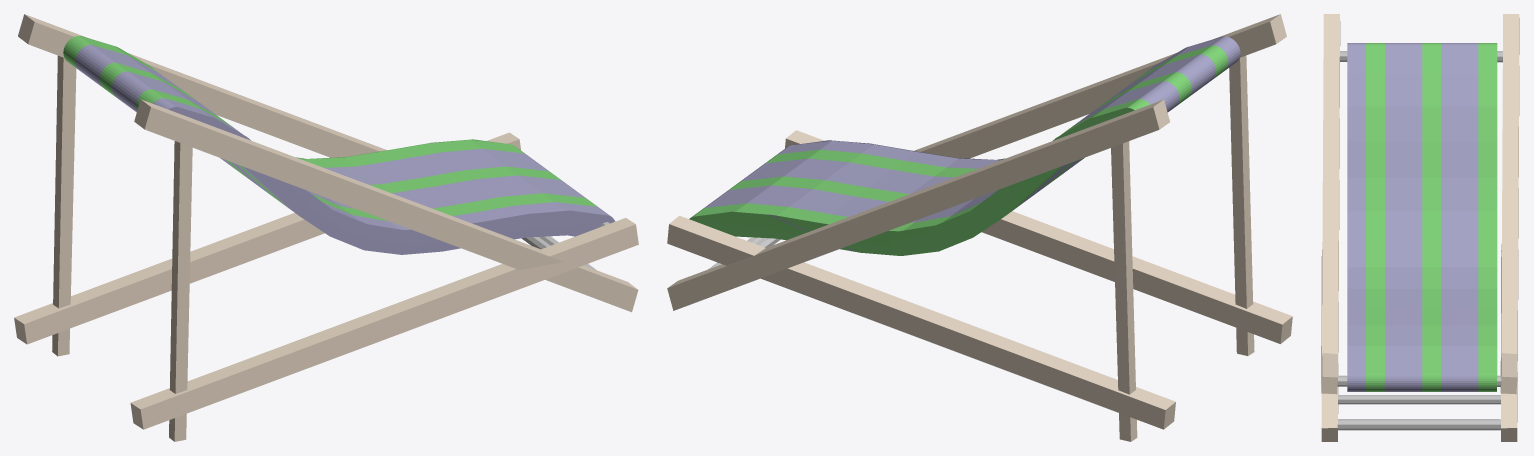
The model's file is Cadeira1.fbx.
The picture shows the model from 3 angles, left to right: view 1: azimuth 30°, elevation 25°; view 2: azimuth 150°, elevation 25°; view 3: azimuth 270°, elevation 25°; orthographic projection. The views are drawn at different scales.
Parts seen in each view (by area): view 1: Cylinder.003; view 2: Cylinder.003; view 3: Cylinder.003.
Boxes of the visible parts, left/top/right/bottom form: Cylinder.003: left=14, top=14, right=638, bottom=441; Cylinder.003: left=667, top=14, right=1292, bottom=441; Cylinder.003: left=1321, top=14, right=1519, bottom=441.
Bounding box in the file's own units: 488 × 321 × 219.
